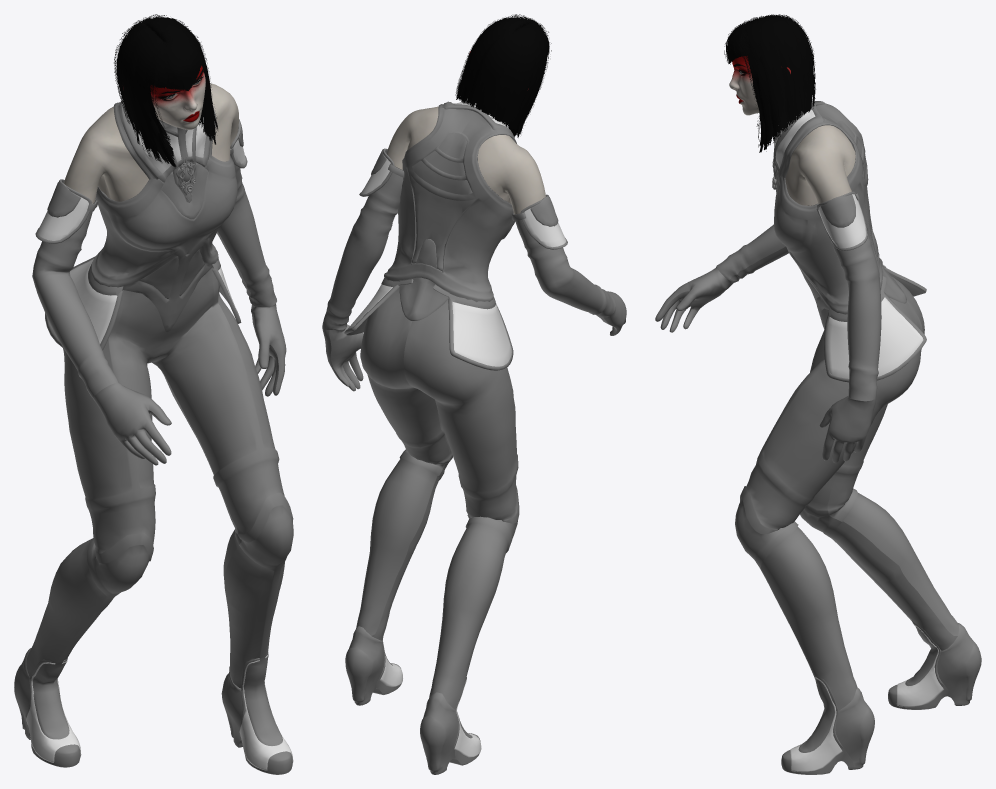
File: Octavia_Shot_28.fbx
The picture shows the model from 3 angles, left to right: view 1: azimuth 30°, elevation 25°; view 2: azimuth 150°, elevation 25°; view 3: azimuth 270°, elevation 25°; orthographic projection. The views are drawn at different scales.
Parts seen in each view (by area): view 1: Octavia_Body1, Octavia_Hair2; view 2: Octavia_Body1, Octavia_Hair2; view 3: Octavia_Body1, Octavia_Hair2.
Part boxes in pixels (x1,y1,x2,y2): Octavia_Body1: (14,65,293,774); Octavia_Hair2: (114,14,217,167); Octavia_Body1: (322,51,626,774); Octavia_Hair2: (455,14,551,137); Octavia_Body1: (655,38,981,774); Octavia_Hair2: (724,14,815,152).
Bounding box in the file's own units: 722 × 2057 × 876.
